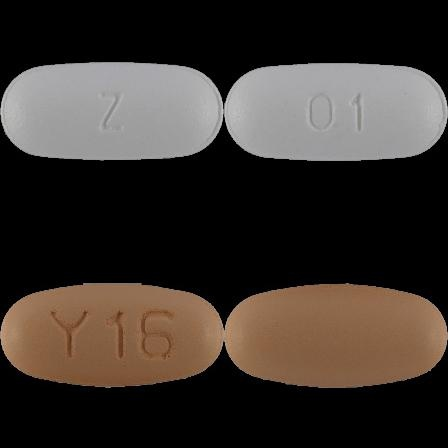65862-652: (0, 0, 224, 224)
